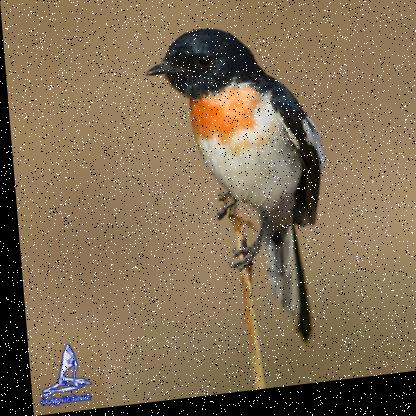Burung: (142, 24, 334, 364)
